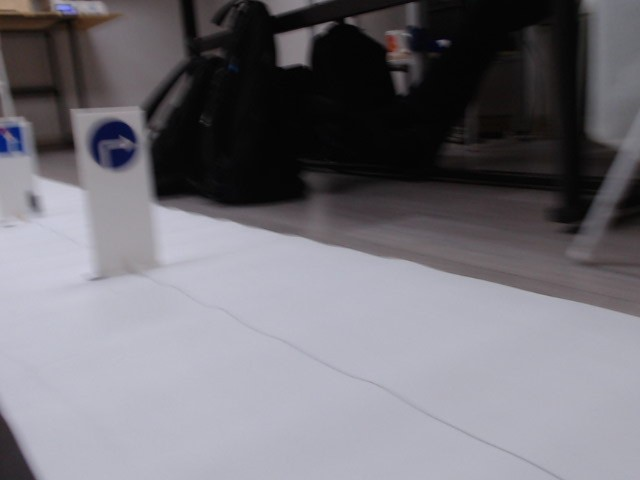Right: (87, 118, 139, 173)
